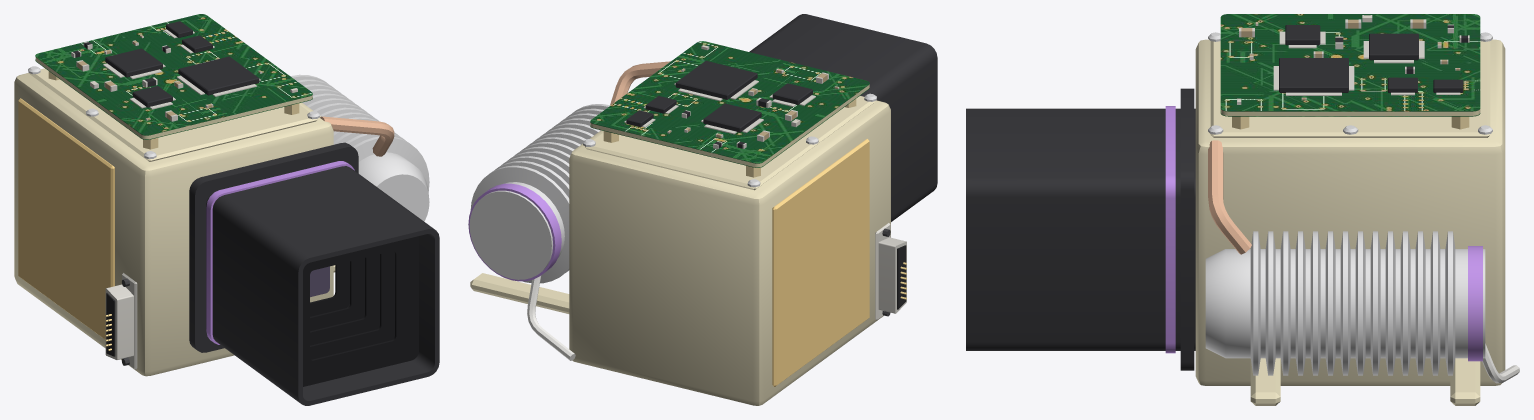
The model's file is ir_spectrometer.glb.
3 renders of one model, left to right at view 1: azimuth 30°, elevation 25°; view 2: azimuth 150°, elevation 25°; view 3: azimuth 270°, elevation 25°, orthographic. The views are drawn at different scales.
Parts seen in each view (by area): view 1: ir_spectrometer, electronics; view 2: ir_spectrometer, electronics; view 3: ir_spectrometer, electronics.
Part boxes in pixels (box(x1,y1,x2,y2)): ir_spectrometer: box(14, 66, 439, 405); electronics: box(35, 14, 312, 139); ir_spectrometer: box(468, 14, 937, 405); electronics: box(590, 41, 869, 167); ir_spectrometer: box(966, 32, 1519, 405); electronics: box(1220, 14, 1480, 116).
Size of the model in its own units: 0.0899 by 0.0617 by 0.1109.
Materials: 21 (1 with a texture image).
